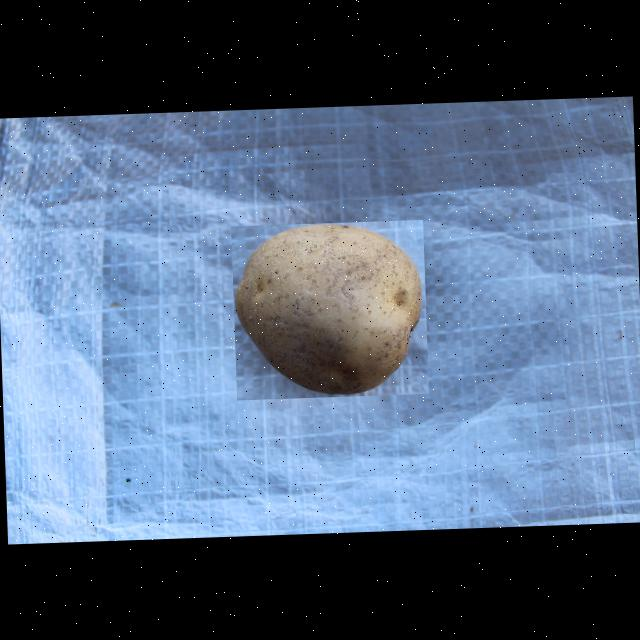Diseased-fungal potato: (231, 219, 428, 400)
